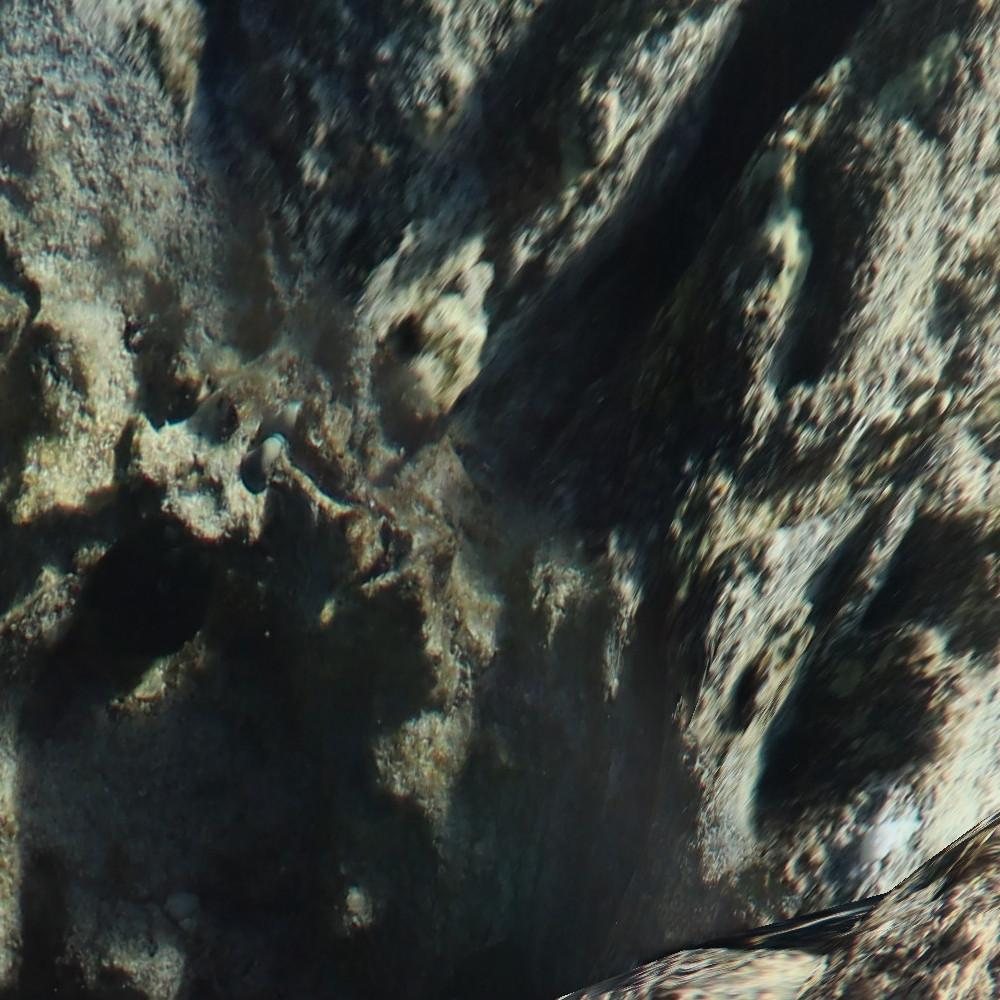tripneustes_gratilla: (83, 504, 210, 672)
